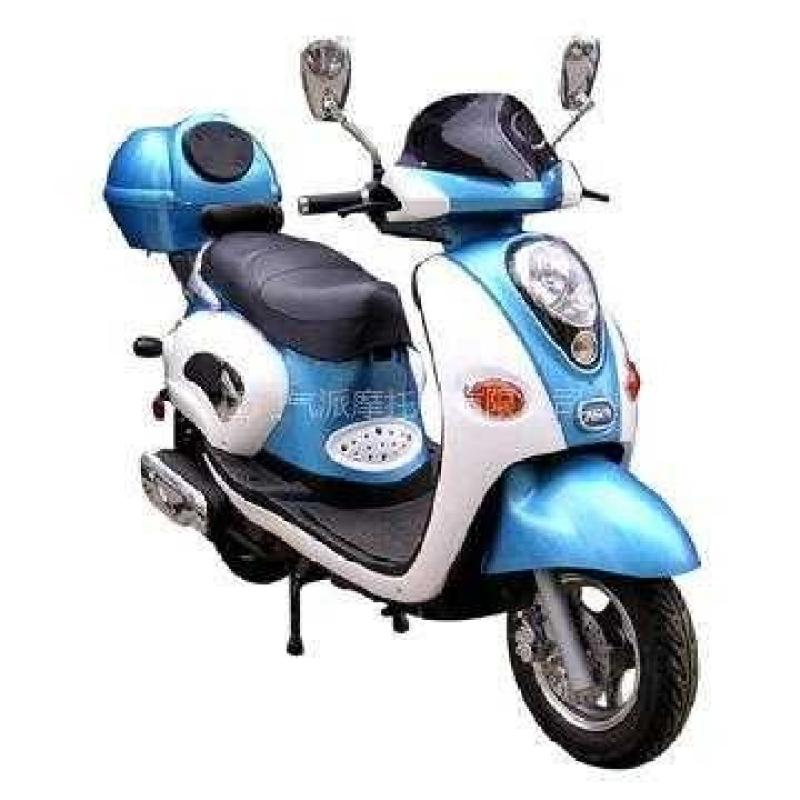bike: (131, 26, 720, 753)
